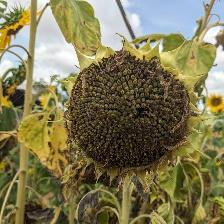sunflower: (51, 31, 218, 195)
